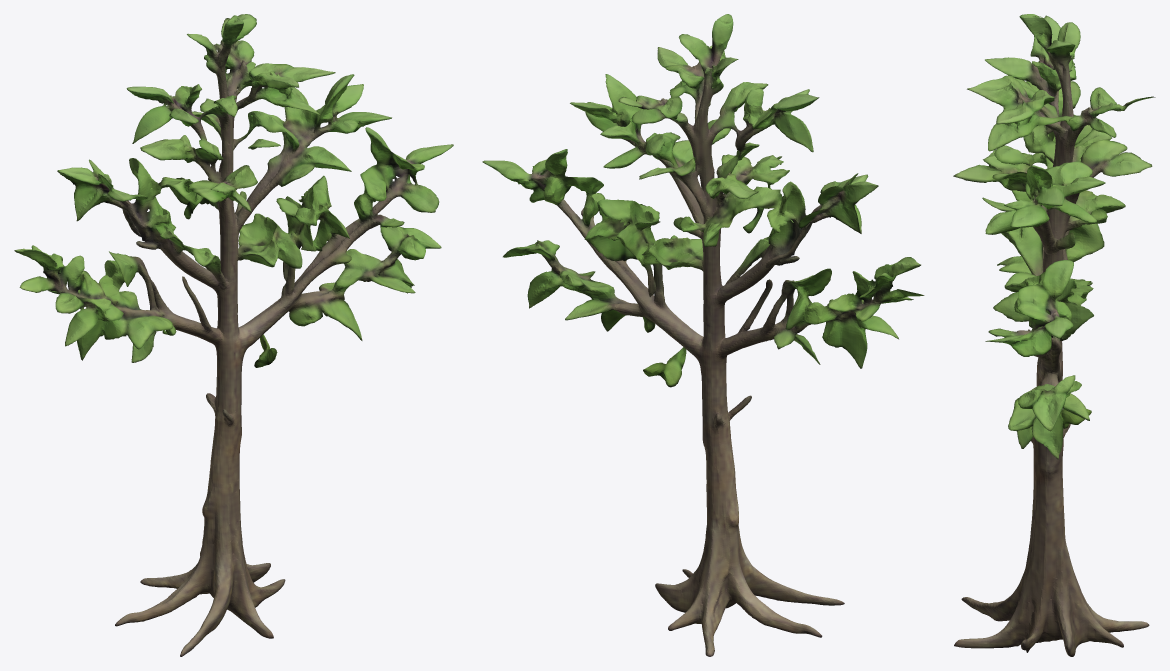
Rendered from trees_young.glb.
3 views of the same model, side by side, from view 1: azimuth 30°, elevation 25°; view 2: azimuth 150°, elevation 25°; view 3: azimuth 270°, elevation 25° (orthographic). The views are drawn at different scales.
Parts seen in each view (by area): view 1: world; view 2: world; view 3: world.
Part boxes in pixels (x1=…): world: x1=14, y1=14, x2=453, y2=656; world: x1=482, y1=14, x2=924, y2=656; world: x1=953, y1=14, x2=1155, y2=656.
Size of the model in its own units: 0.7756 by 1 by 0.2907.
